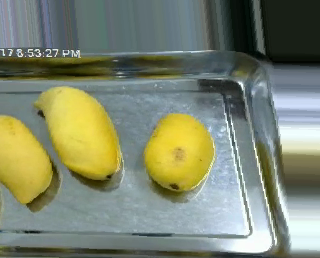Mango: (31, 85, 121, 182), (144, 108, 217, 192), (0, 108, 52, 205)
